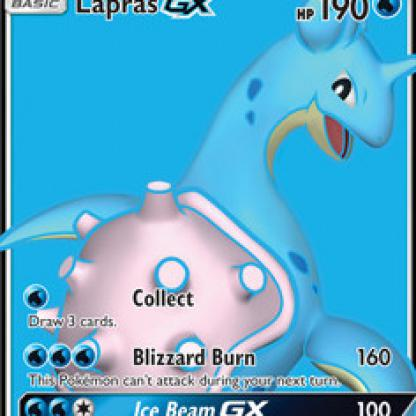Lapras: (1, 21, 415, 349)
